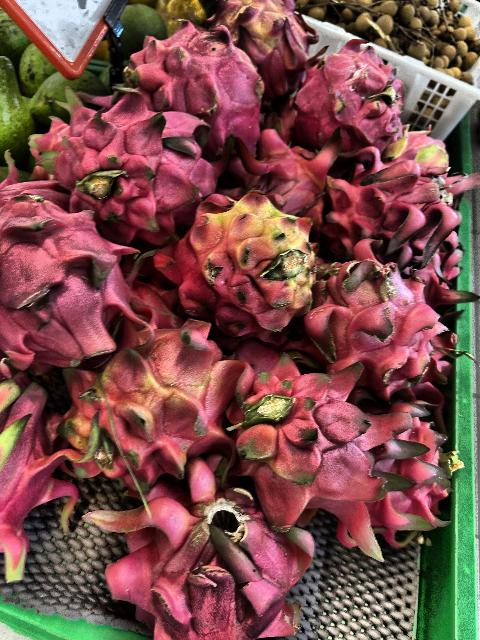buah-naga-belum-matang: (77, 298, 229, 478), (174, 183, 316, 329), (204, 0, 314, 101), (386, 112, 464, 186)
buah-naga-matang: (104, 470, 312, 640), (235, 352, 416, 546), (0, 168, 128, 374), (33, 87, 212, 221), (108, 14, 264, 160), (304, 246, 450, 394), (323, 144, 459, 292), (284, 27, 406, 153), (221, 119, 343, 227)
